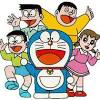doraemon: (20, 28, 74, 99)
